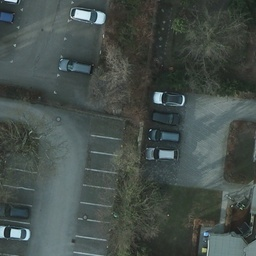car: (71, 7, 108, 25), (59, 58, 93, 75), (1, 226, 33, 243), (148, 127, 181, 143), (152, 107, 185, 123), (151, 89, 184, 105), (145, 147, 177, 162), (1, 205, 32, 219), (1, 11, 17, 24)
